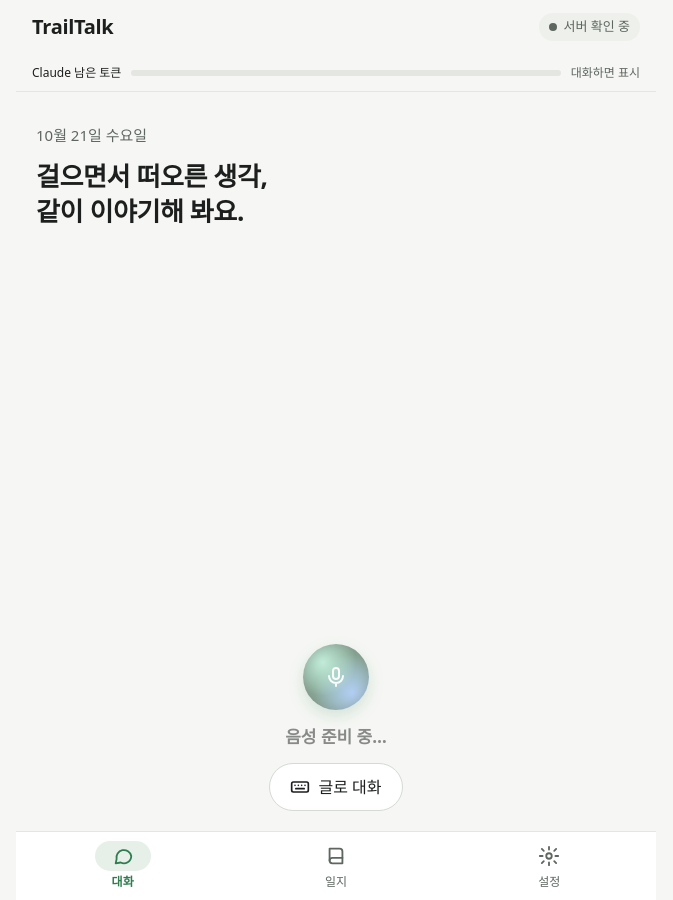
App › 탭을 옮겼다 돌아와도 대화가 남아 있다
The width and height of the screenshot is (673, 900).
Click the button "글로 대화" at [336, 787], box [270, 763, 402, 811]
(page scrolled)
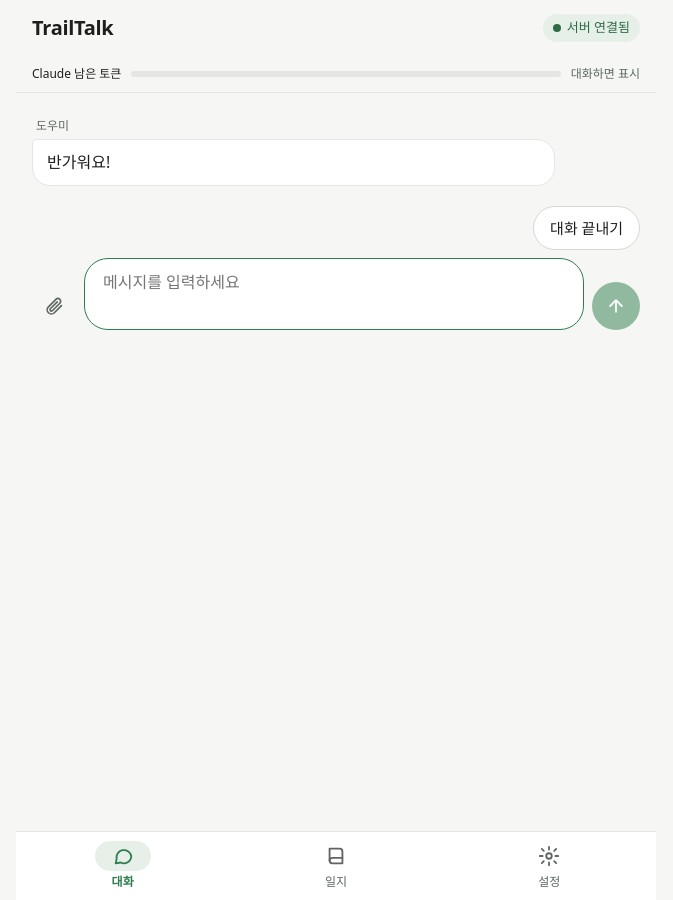
Now the text "반가워요!" is shown, box [47, 151, 114, 173]
Click the tab "설정" at [549, 866], box [443, 832, 656, 899]
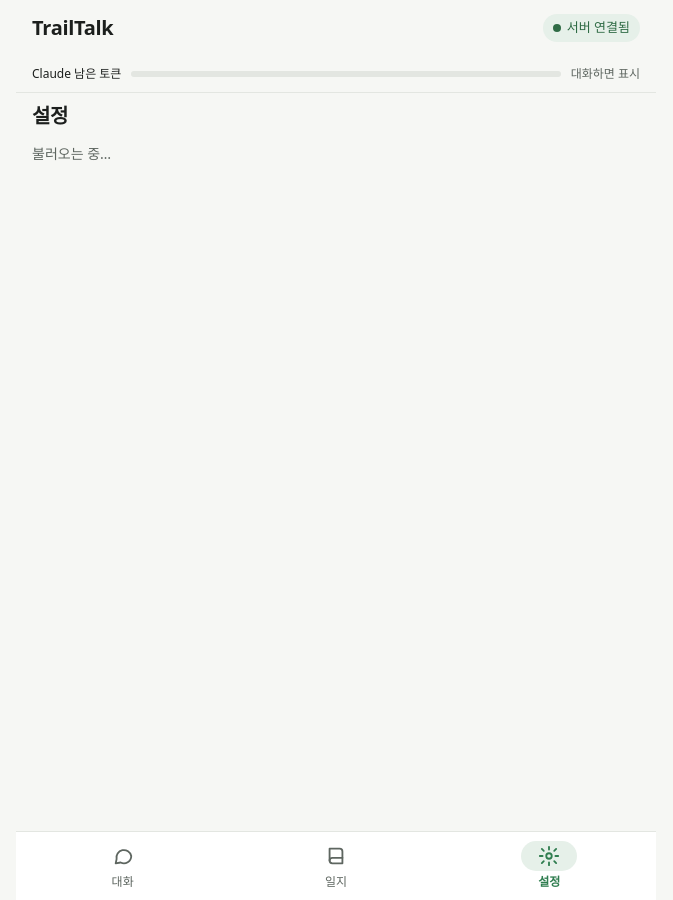
Now the text "반가워요!" is gone
Click the tab "대화" at [123, 866], box [16, 832, 229, 899]
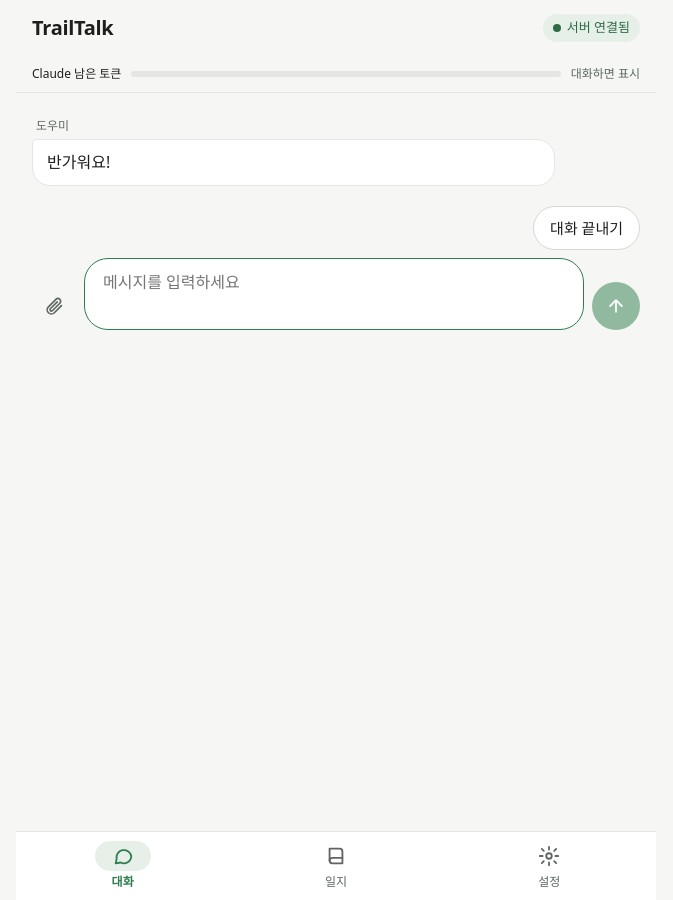
Now the text "반가워요!" is shown, box [47, 151, 114, 173]
